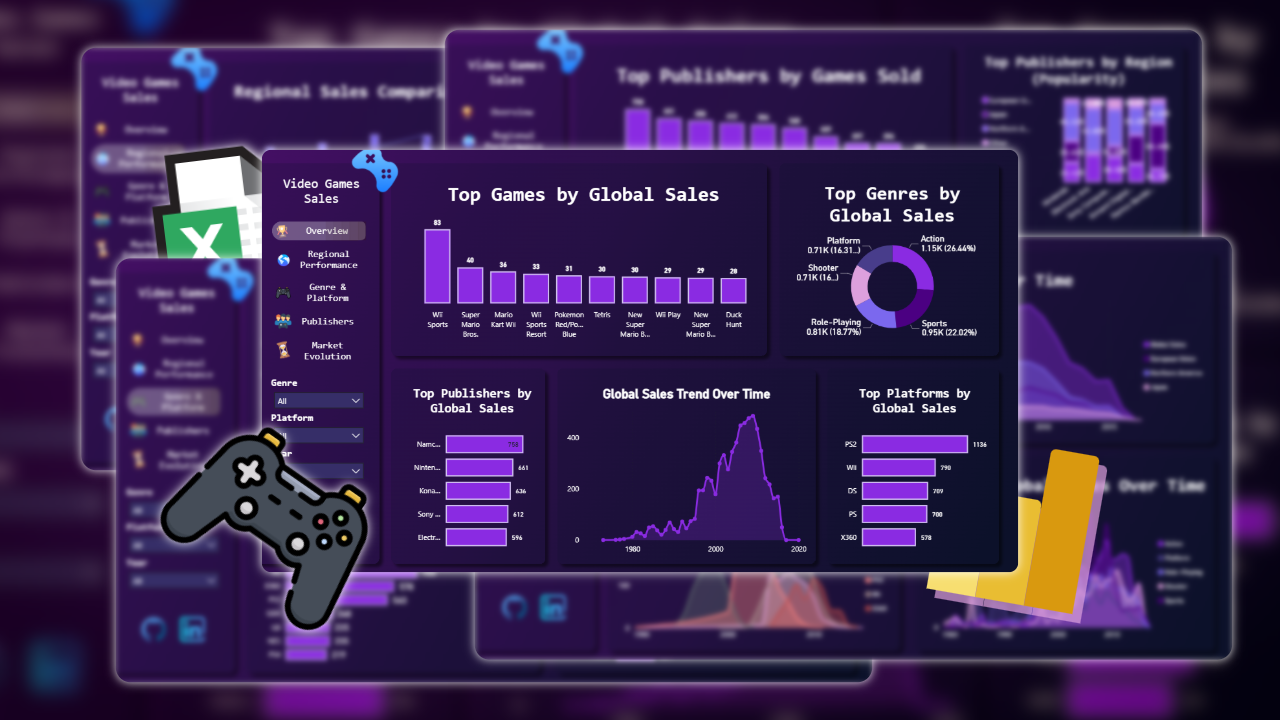

What the dashboard file says about the page in this screenshot:
{"tool":"powerbi","page":{"name":"Overview","canvas":[1280,720],"ordinal":0},"visuals":[{"type":"donutChart","title":"Top Genres by Global Sales","fields":{"Category":["vgsales.Genre"],"Y":["vgsales.Total Global Sales"]},"box":[886.1,43.6,361.2,296.8],"z":0},{"type":"clusteredColumnChart","title":"Top Games by Global Sales","fields":{"Category":["vgsales.Name"],"Y":["vgsales.Total Global Sales"]},"box":[233.5,43.6,625.3,295.7],"z":1000},{"type":"clusteredBarChart","title":"Top Publishers by Global Sales","fields":{"Category":["vgsales.Publisher"],"Y":["vgsales.No. of Games"]},"box":[233.6,386.7,249.4,317.2],"z":2000},{"type":"clusteredBarChart","title":"Top Platforms by Global Sales","fields":{"Category":["vgsales.Platform"],"Y":["vgsales.Total Global Sales"]},"box":[961.2,386.7,285.7,317.2],"z":3000},{"type":"shape","box":[10.3,25.8,188.4,94.2],"z":4000},{"type":"image","box":[11,109.1,54.2,64.5],"z":5000},{"type":"shape","box":[32.9,109.1,161.3,60.6],"z":6000},{"type":"shape","box":[5.9,109.1,188.4,61.9],"z":7000},{"type":"shape","box":[150.4,109.1,43.9,61.9],"z":8000},{"type":"shape","box":[136.4,109.1,44.7,63.3],"z":9000},{"type":"shape","box":[123.3,109.1,43.6,63.3],"z":10000},{"type":"shape","box":[109.1,109.1,44.7,63.3],"z":11000},{"type":"shape","box":[96,109.1,43.6,63.3],"z":12000},{"type":"lineChart","title":"Global Sales Trend Over Time","fields":{"Y":["vgsales.Total Global Sales"],"Category":["vgsales.Year"]},"box":[503.2,387.1,433.5,317.4],"z":13000},{"type":"image","box":[14.2,165.2,51.6,50.3],"z":14000},{"type":"shape","box":[33.5,149.7,165.2,78.7],"z":15000},{"type":"shape","box":[33.5,205.2,161.3,77.4],"z":16000},{"type":"shape","box":[33.5,262.2,161.5,61.1],"z":17000},{"type":"shape","box":[33.5,301.9,161.3,80],"z":18000},{"type":"image","box":[11.6,215.5,55.5,59.4],"z":19000},{"type":"image","box":[10.3,261.9,59.4,60.6],"z":20000},{"type":"image","box":[9,309.7,61.9,61.9],"z":21000},{"type":"slicer","title":"Genre","fields":{"Values":["vgsales.Genre"]},"box":[14.2,386.7,165.7,58.4],"z":22000},{"type":"slicer","title":"Platform","fields":{"Values":["vgsales.Platform"]},"box":[14.2,445.1,165.7,60],"z":23000},{"type":"slicer","title":"Year","fields":{"Values":["vgsales.Year"]},"box":[14.2,505.1,165.7,60],"z":24000},{"type":"image","box":[88.4,591.4,84,72],"z":25000},{"type":"image","box":[25.1,591.4,80.8,72],"z":26000},{"type":"actionButton","box":[16.8,165.2,165.2,50.3],"z":27000},{"type":"actionButton","box":[14.2,219.4,165.2,50.3],"z":28000},{"type":"actionButton","box":[12.9,267.1,165.2,50.3],"z":29000},{"type":"actionButton","box":[14.2,317.4,165.2,50.3],"z":30000}]}

Visuals, with their boxes in screenshot pixels (x1, y1, x2, y2), scaled from the page's 1280x720 canvas onto the 1280x720 screenshot:
"Top Genres by Global Sales" donutChart: pyautogui.locateOnScreen(886, 44, 1247, 340)
"Top Games by Global Sales" clusteredColumnChart: pyautogui.locateOnScreen(234, 44, 859, 339)
"Top Publishers by Global Sales" clusteredBarChart: pyautogui.locateOnScreen(234, 387, 483, 704)
"Top Platforms by Global Sales" clusteredBarChart: pyautogui.locateOnScreen(961, 387, 1247, 704)
shape: pyautogui.locateOnScreen(10, 26, 199, 120)
image: pyautogui.locateOnScreen(11, 109, 65, 174)
shape: pyautogui.locateOnScreen(33, 109, 194, 170)
shape: pyautogui.locateOnScreen(6, 109, 194, 171)
shape: pyautogui.locateOnScreen(150, 109, 194, 171)
shape: pyautogui.locateOnScreen(136, 109, 181, 172)
shape: pyautogui.locateOnScreen(123, 109, 167, 172)
shape: pyautogui.locateOnScreen(109, 109, 154, 172)
shape: pyautogui.locateOnScreen(96, 109, 140, 172)
"Global Sales Trend Over Time" lineChart: pyautogui.locateOnScreen(503, 387, 937, 704)
image: pyautogui.locateOnScreen(14, 165, 66, 216)
shape: pyautogui.locateOnScreen(34, 150, 199, 228)
shape: pyautogui.locateOnScreen(34, 205, 195, 283)
shape: pyautogui.locateOnScreen(34, 262, 195, 323)
shape: pyautogui.locateOnScreen(34, 302, 195, 382)
image: pyautogui.locateOnScreen(12, 216, 67, 275)
image: pyautogui.locateOnScreen(10, 262, 70, 322)
image: pyautogui.locateOnScreen(9, 310, 71, 372)
"Genre" slicer: pyautogui.locateOnScreen(14, 387, 180, 445)
"Platform" slicer: pyautogui.locateOnScreen(14, 445, 180, 505)
"Year" slicer: pyautogui.locateOnScreen(14, 505, 180, 565)
image: pyautogui.locateOnScreen(88, 591, 172, 663)
image: pyautogui.locateOnScreen(25, 591, 106, 663)
actionButton: pyautogui.locateOnScreen(17, 165, 182, 216)
actionButton: pyautogui.locateOnScreen(14, 219, 179, 270)
actionButton: pyautogui.locateOnScreen(13, 267, 178, 317)
actionButton: pyautogui.locateOnScreen(14, 317, 179, 368)
